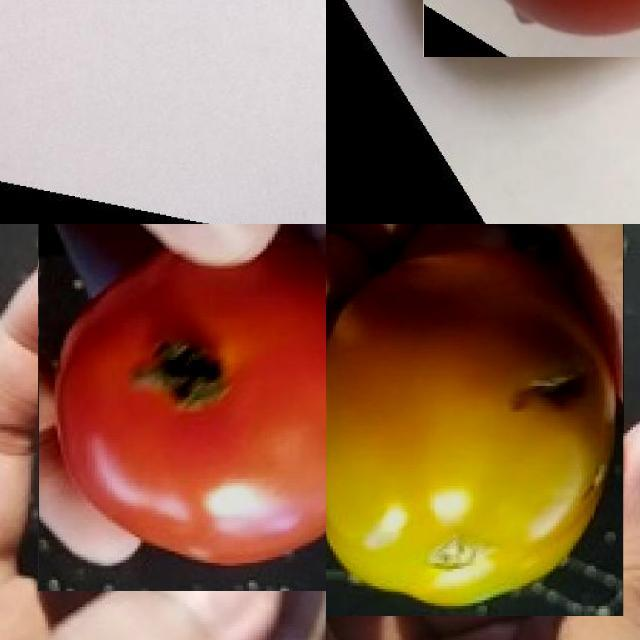Fresh Tomato: (38, 224, 326, 591)
Rotten Tomato: (326, 224, 624, 616)
